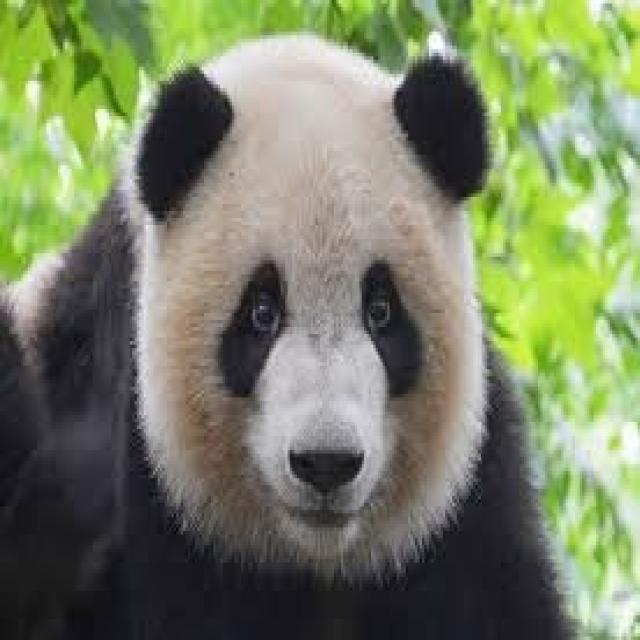Panda: (0, 35, 566, 638)
